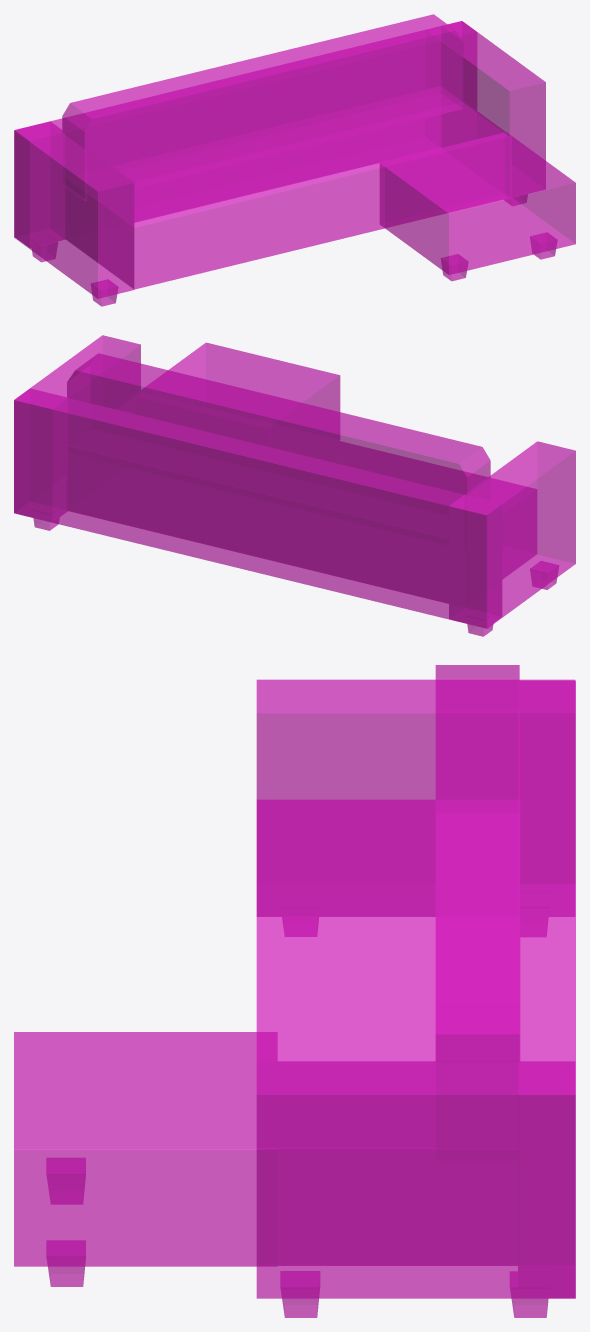
The model's file is SM_Prop_Couch_Suite_01_Collision.fbx.
3 renders of one model, top to bottom at view 1: azimuth 30°, elevation 25°; view 2: azimuth 150°, elevation 25°; view 3: azimuth 270°, elevation 25°, orthographic. The views are drawn at different scales.
Visible parts, largest first — view 1: SM_Prop_Couch_Suite_01_Collision; view 2: SM_Prop_Couch_Suite_01_Collision; view 3: SM_Prop_Couch_Suite_01_Collision.
Boxes of the visible parts, x1=… form: SM_Prop_Couch_Suite_01_Collision: x1=14, y1=14, x2=575, y2=306; SM_Prop_Couch_Suite_01_Collision: x1=14, y1=335, x2=575, y2=636; SM_Prop_Couch_Suite_01_Collision: x1=14, y1=665, x2=575, y2=1317.
Bounding box in the file's own units: 270 × 87.1 × 155.
